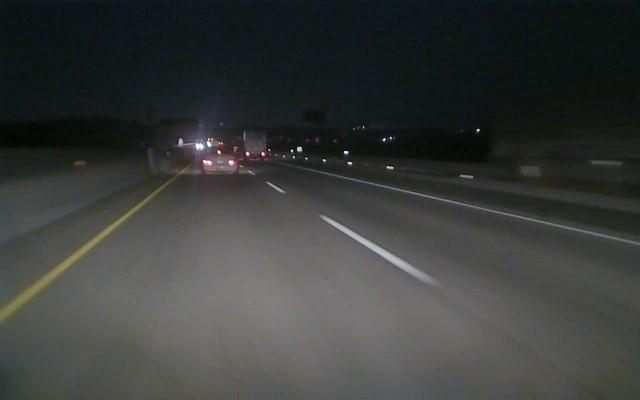lane: (318, 171, 637, 246), (263, 179, 438, 286), (1, 199, 147, 323)
